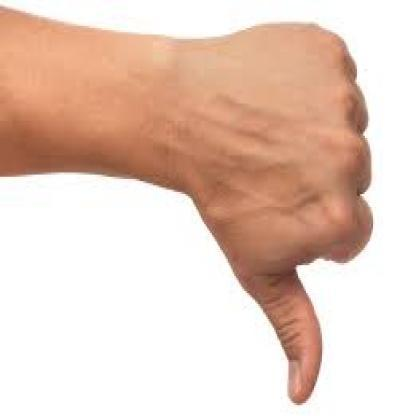thumb_down: (200, 13, 377, 406)
